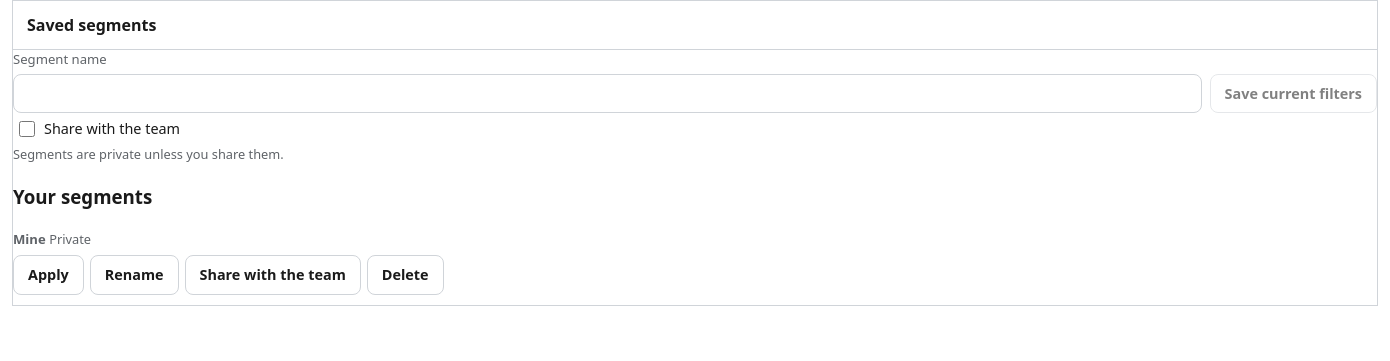
Test: SegmentPanel › a refused change shows the fixed message and reloads the list
The width and height of the screenshot is (1390, 361).
Click the button with aria-label "Share with the team: Mine".
click(273, 275)  # box [184,255,361,295]
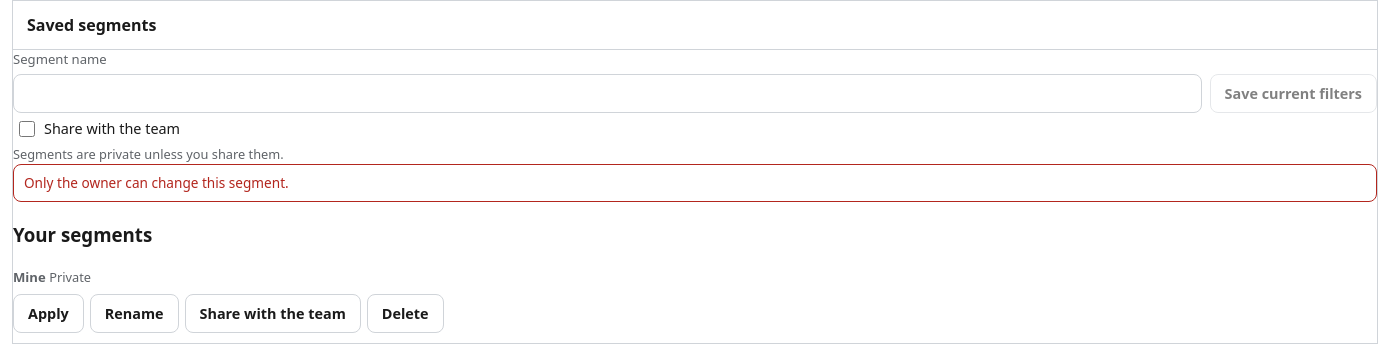
expect the message reads "Only the owner can change this segment.": met, box [24,173,289,192]
